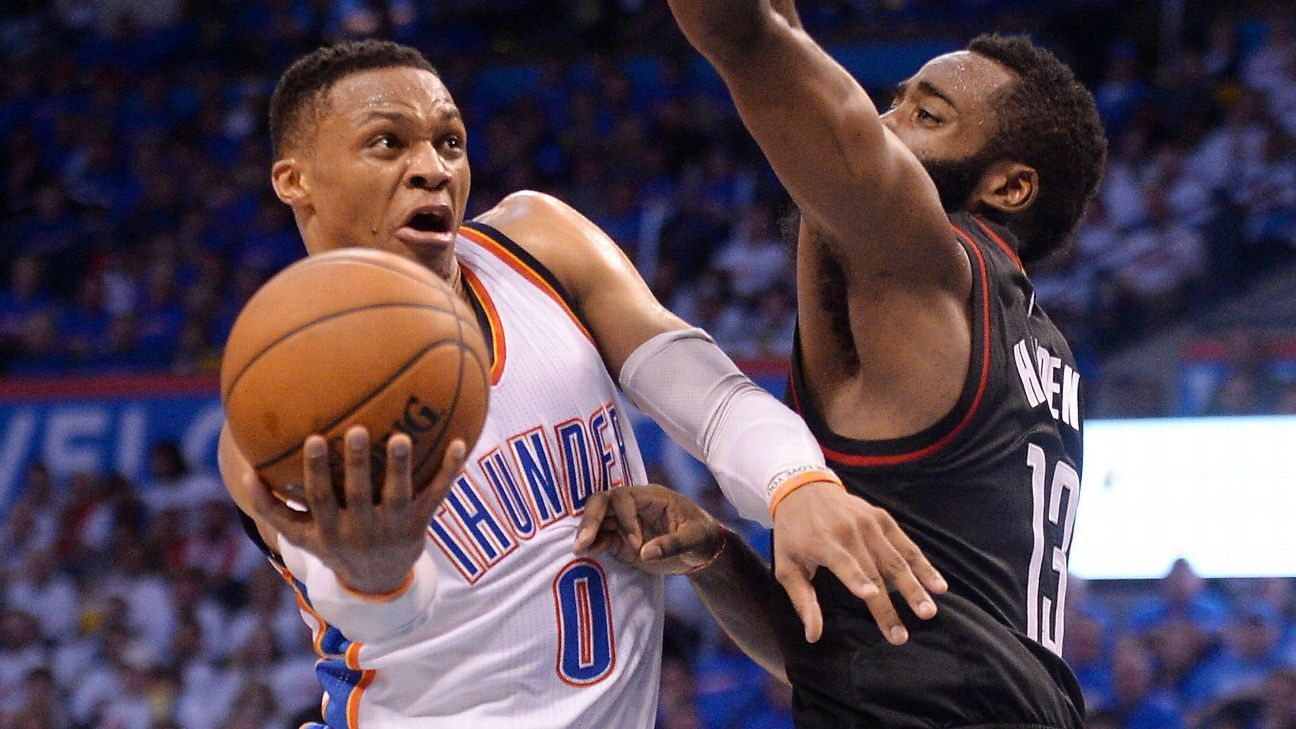defense: (658, 0, 1136, 723)
shoot: (193, 17, 833, 729)
